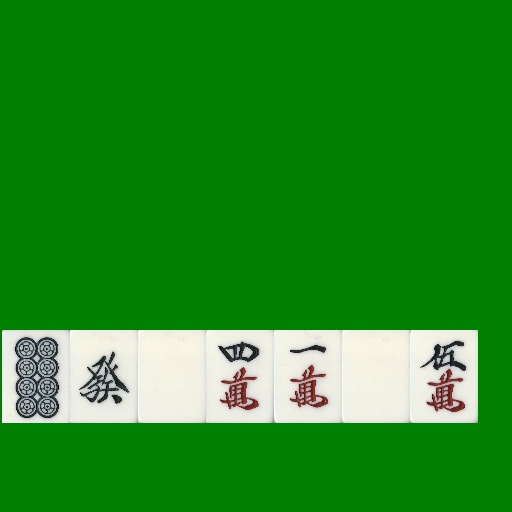1m: (274, 330, 342, 423)
4m: (206, 330, 274, 423)
5m: (410, 330, 478, 423)
8p: (2, 330, 70, 423)
hatsu: (70, 330, 138, 423)
white: (138, 330, 206, 423), (342, 330, 410, 423)
